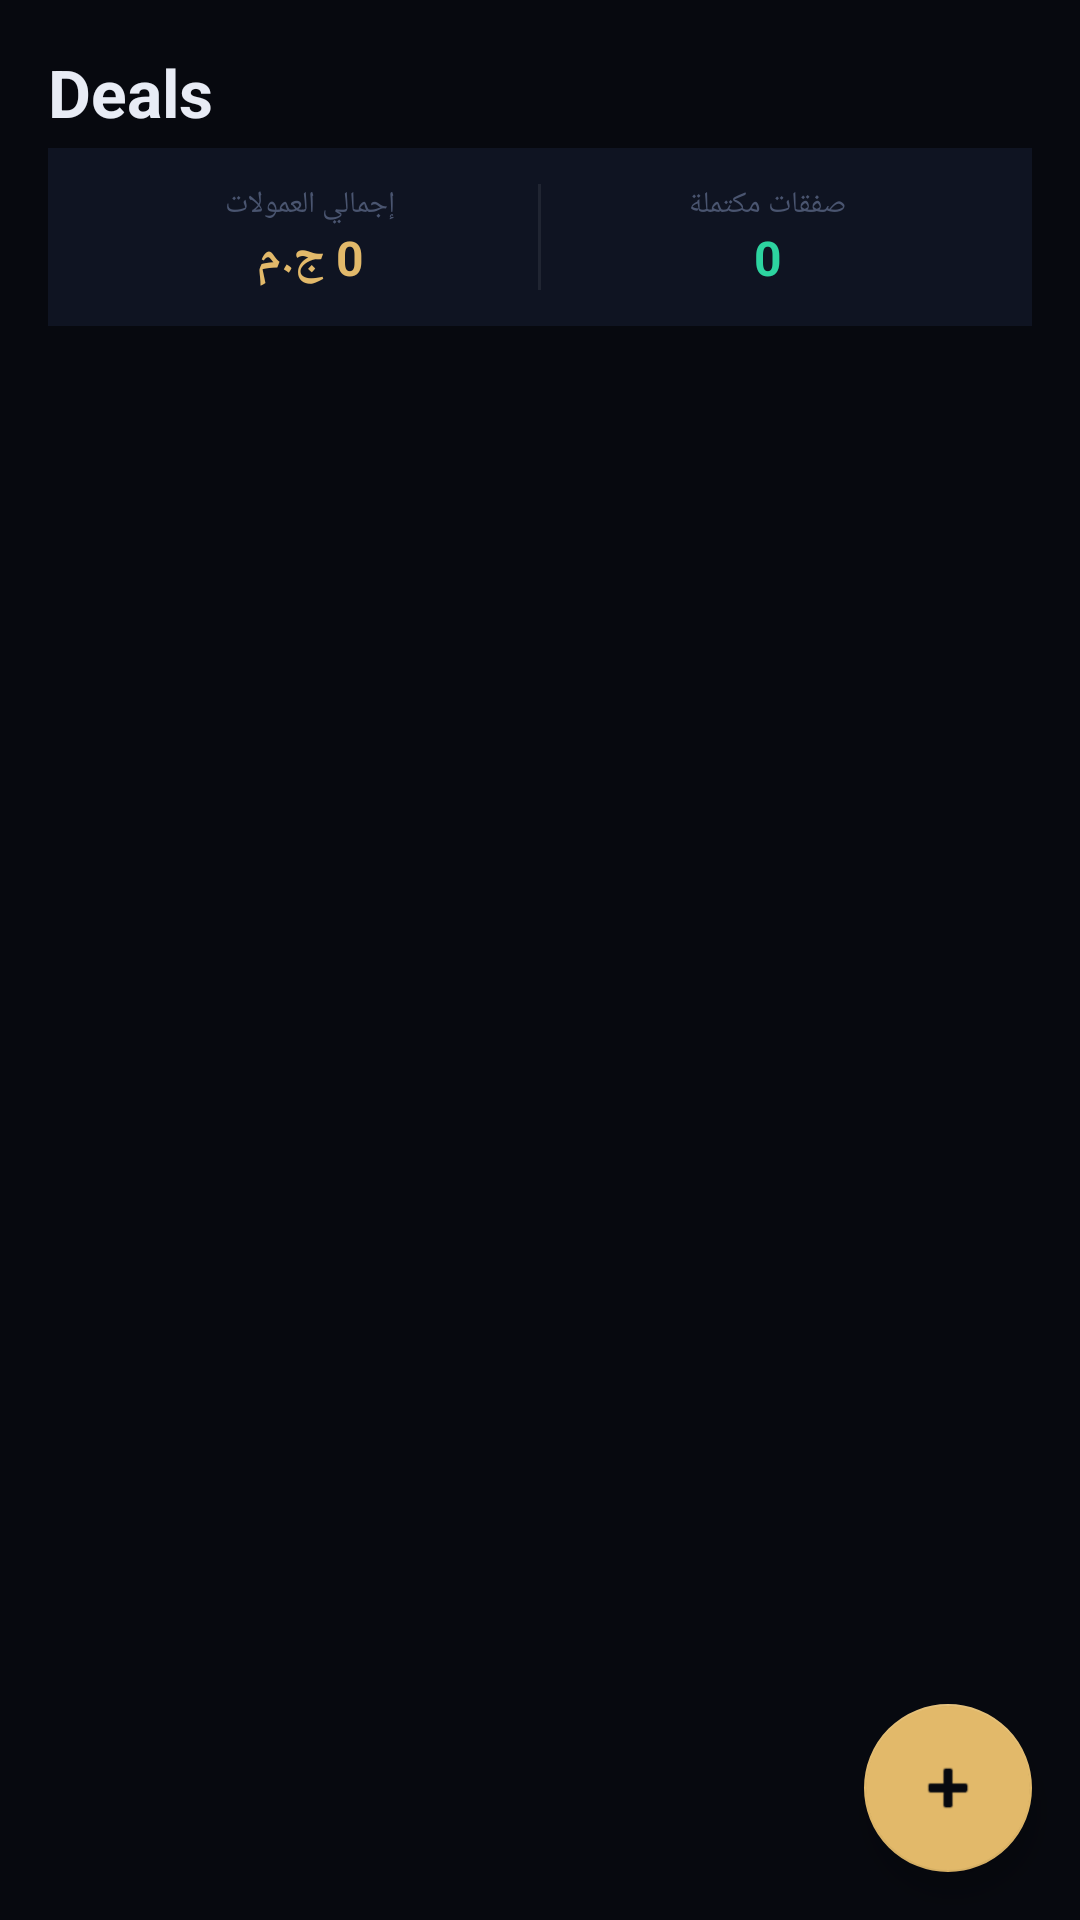

Screen size 1080×1920. Icon name, then its center in pixels as (x=x, y=y):
إضافة صفقة: (x=948, y=1788)
